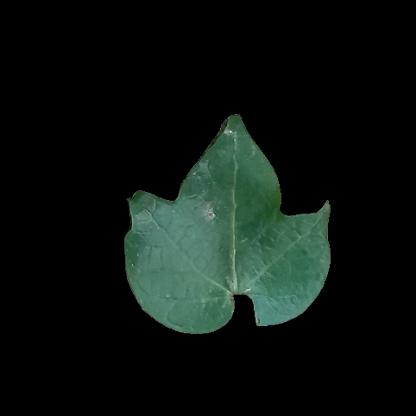healthy: (200, 174, 288, 293), (139, 205, 192, 324)
